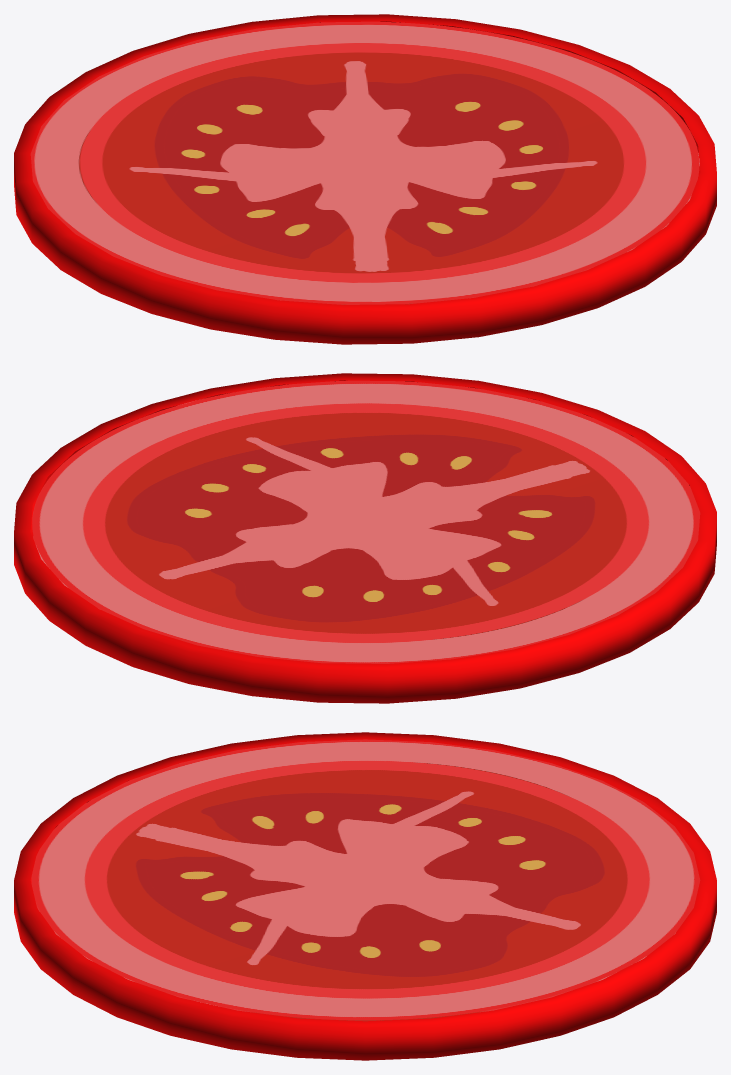
Rendered from TomatoSlice.fbx.
3 renders of one model, top to bottom at view 1: azimuth 30°, elevation 25°; view 2: azimuth 150°, elevation 25°; view 3: azimuth 270°, elevation 25°, orthographic.
Parts seen in each view (by area): view 1: TomatoSlice; view 2: TomatoSlice; view 3: TomatoSlice.
Boxes of the visible parts, x1=… form: TomatoSlice: x1=14, y1=14, x2=716, y2=344; TomatoSlice: x1=14, y1=373, x2=716, y2=703; TomatoSlice: x1=14, y1=732, x2=716, y2=1060.
Size of the model in its own units: 57.33 by 2.93 by 57.57.
